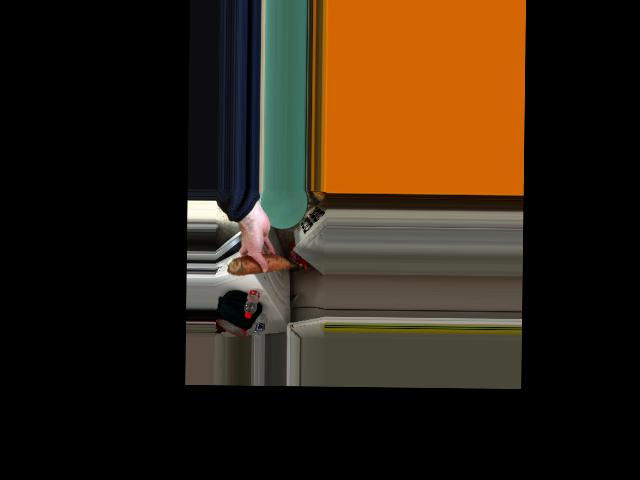sweet_potato: (236, 254, 289, 270)
